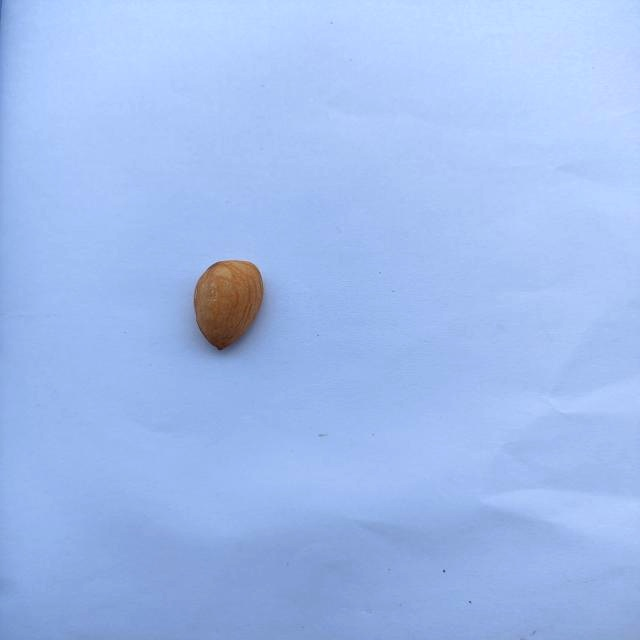grade2: (190, 257, 270, 353)
